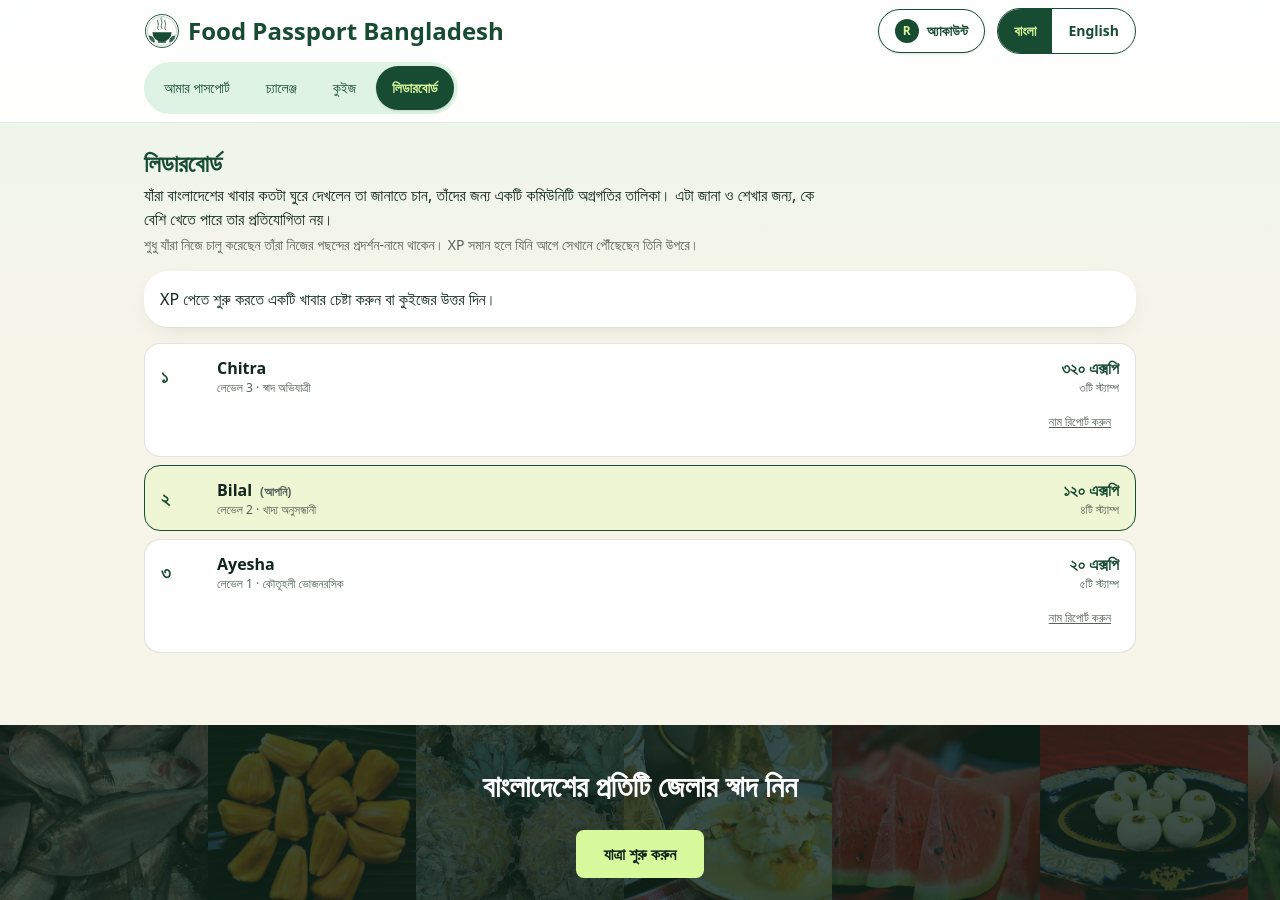
reporting a name asks first, then sends the public handle only
The width and height of the screenshot is (1280, 900).
Click the button "নাম রিপোর্ট করুন" below "৩২০ এক্সপি": (1080,422) left=1041, top=400, right=1119, bottom=444
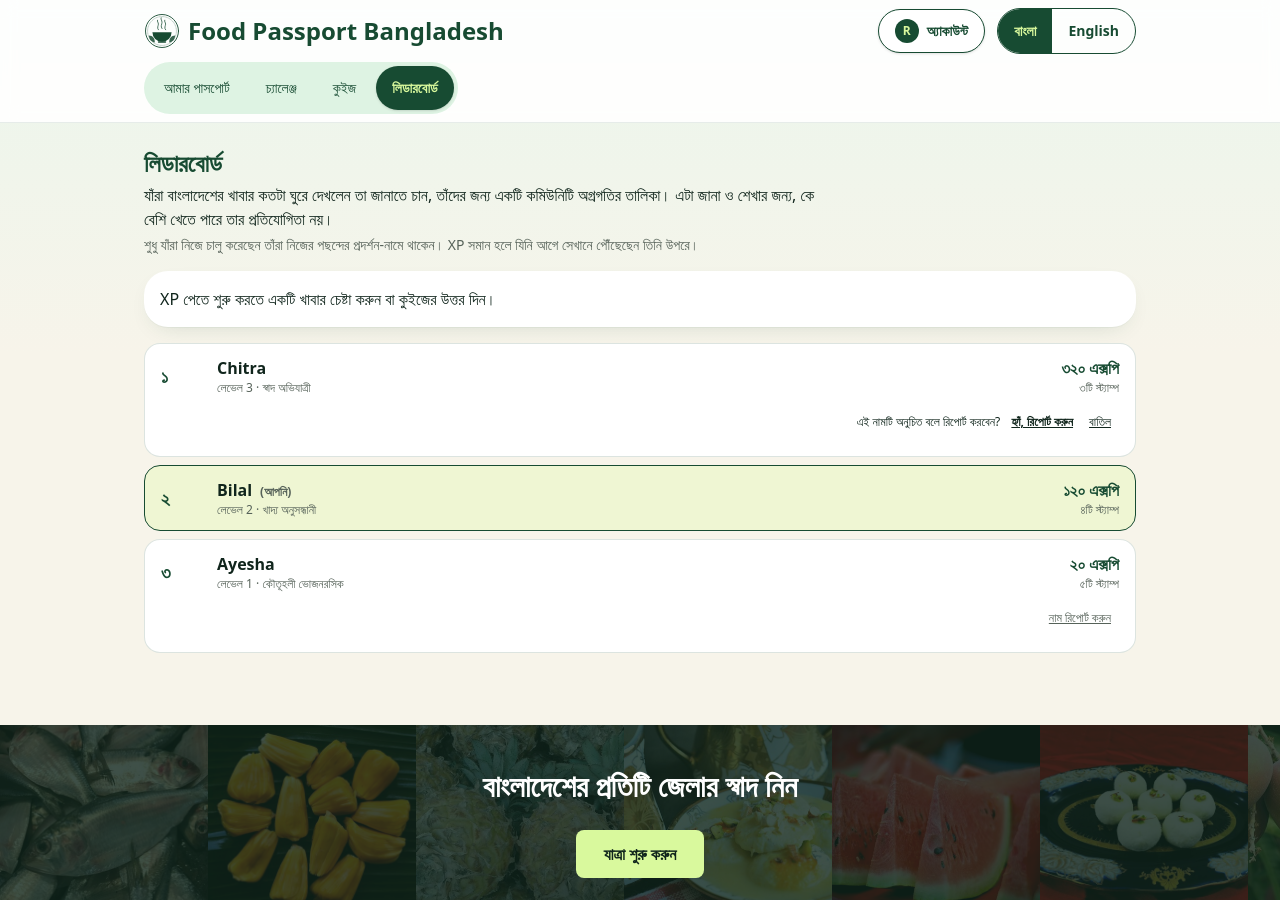
Click the button "হ্যাঁ, রিপোর্ট করুন": (1042,422) left=1003, top=400, right=1081, bottom=444
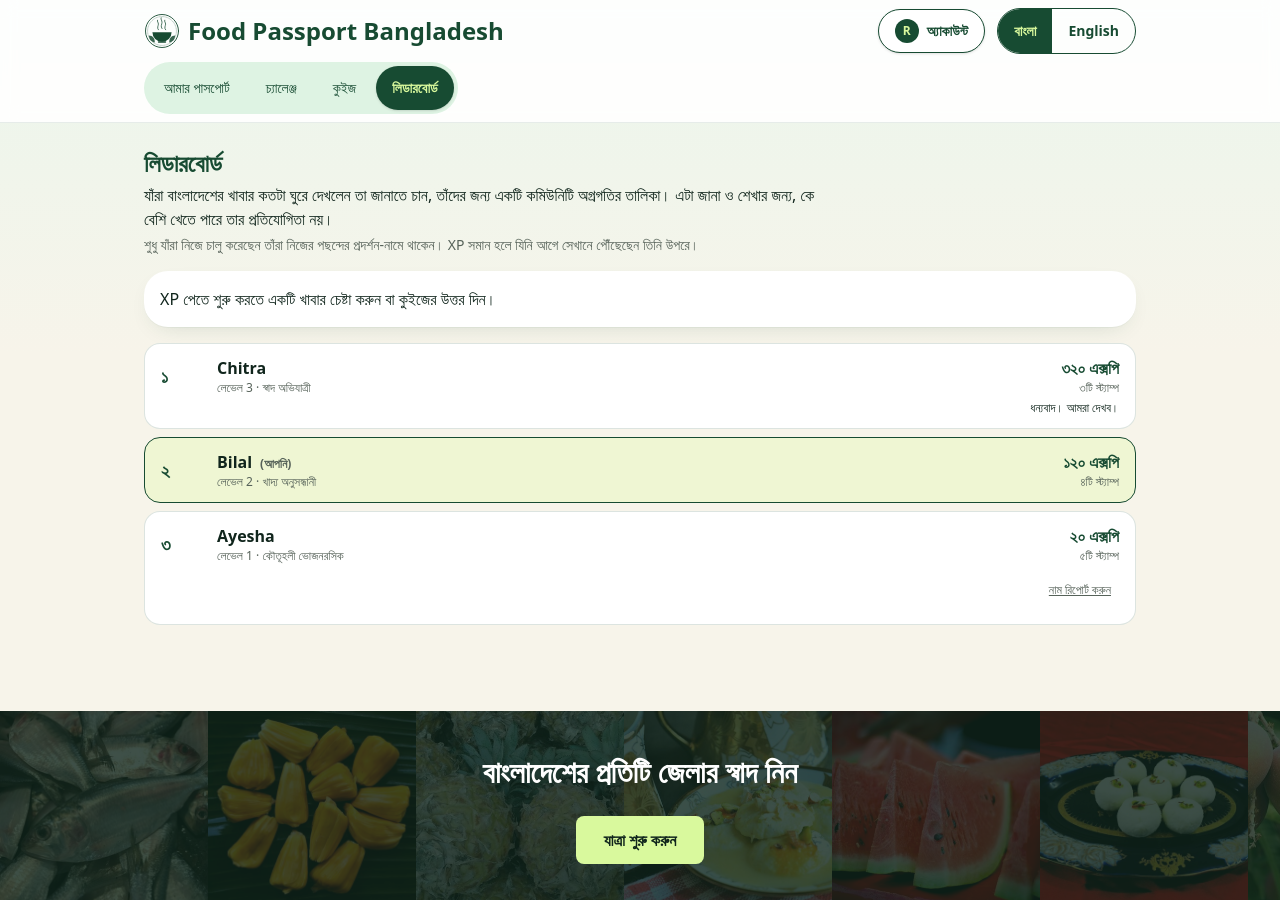
Now the text "ধন্যবাদ। আমরা দেখব।" is shown, box left=1030, top=399, right=1119, bottom=416
Now the button "হ্যাঁ, রিপোর্ট করুন" is gone
